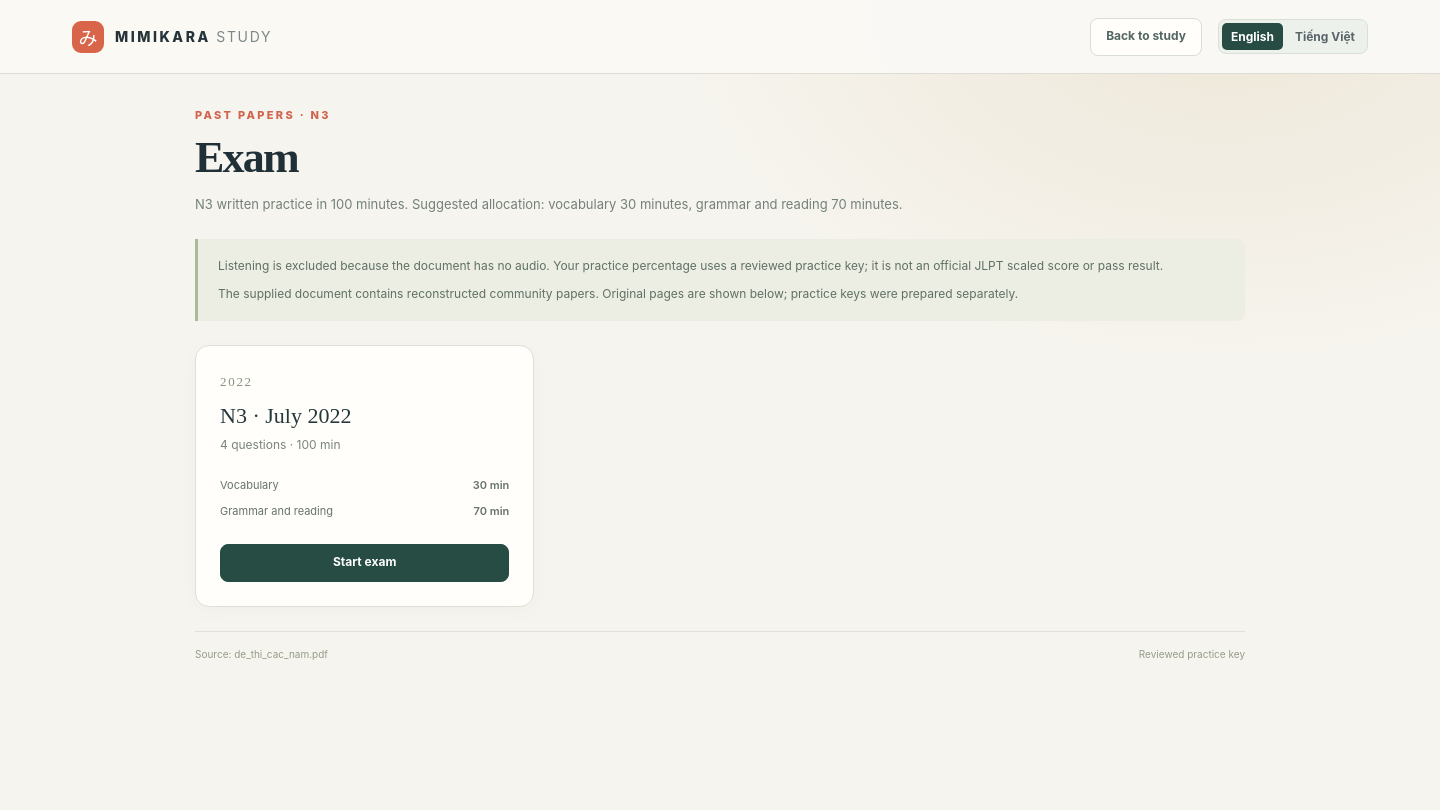
Test: introduces timed written practice and explains the score and listening limits in both languages
Expected: the heading "Exam" is shown, top-left (195, 133), bottom-right (298, 182)
Expected: the text "100 minutes" is shown, top-left (195, 196), bottom-right (902, 212)
Click the button "Tiếng Việt": {"x": 1325, "y": 36} top-left (1286, 23), bottom-right (1364, 50)
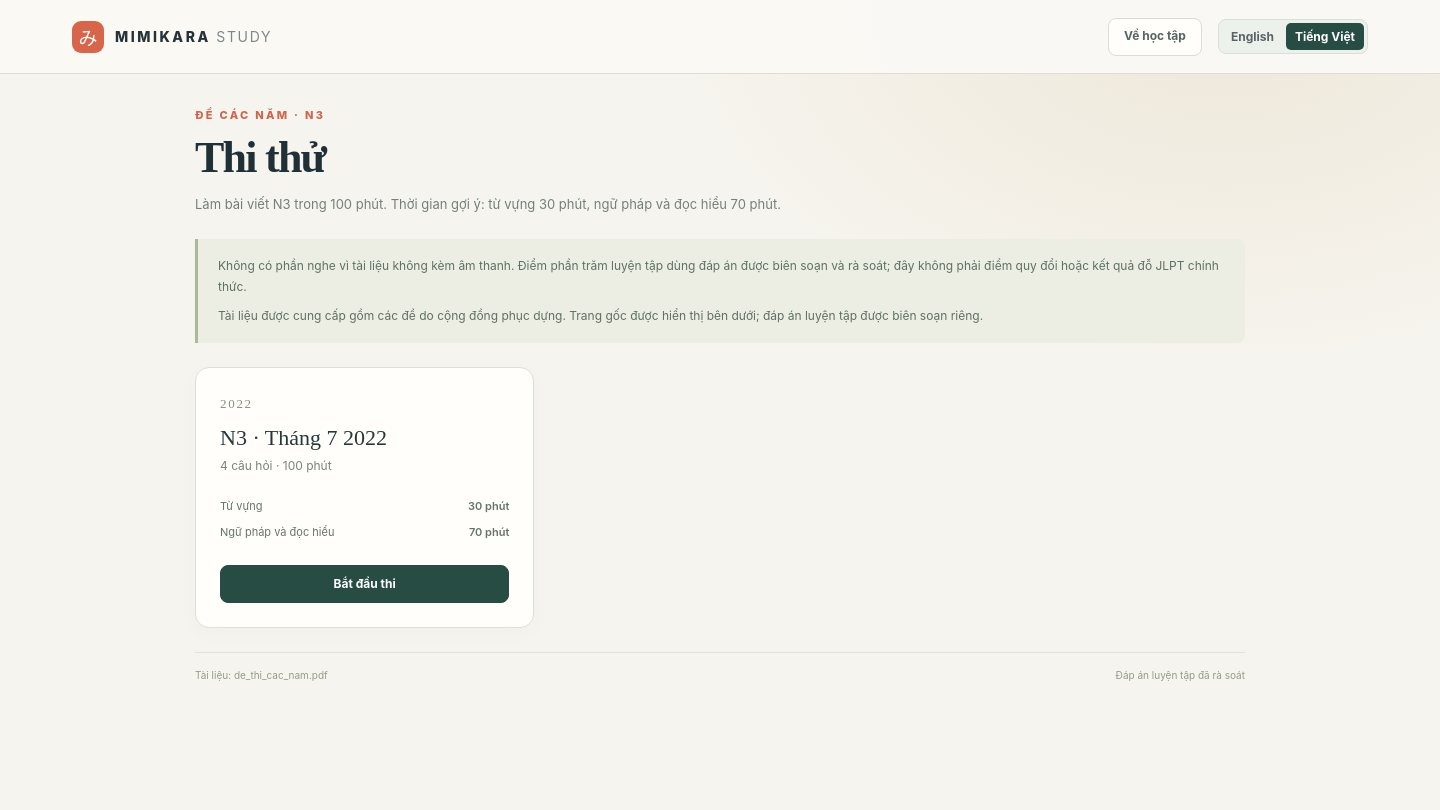
Result: the heading "Thi thử" is shown at top-left (195, 133), bottom-right (325, 182)
Result: the text "Không có phần nghe" is shown at top-left (218, 258), bottom-right (1219, 294)
